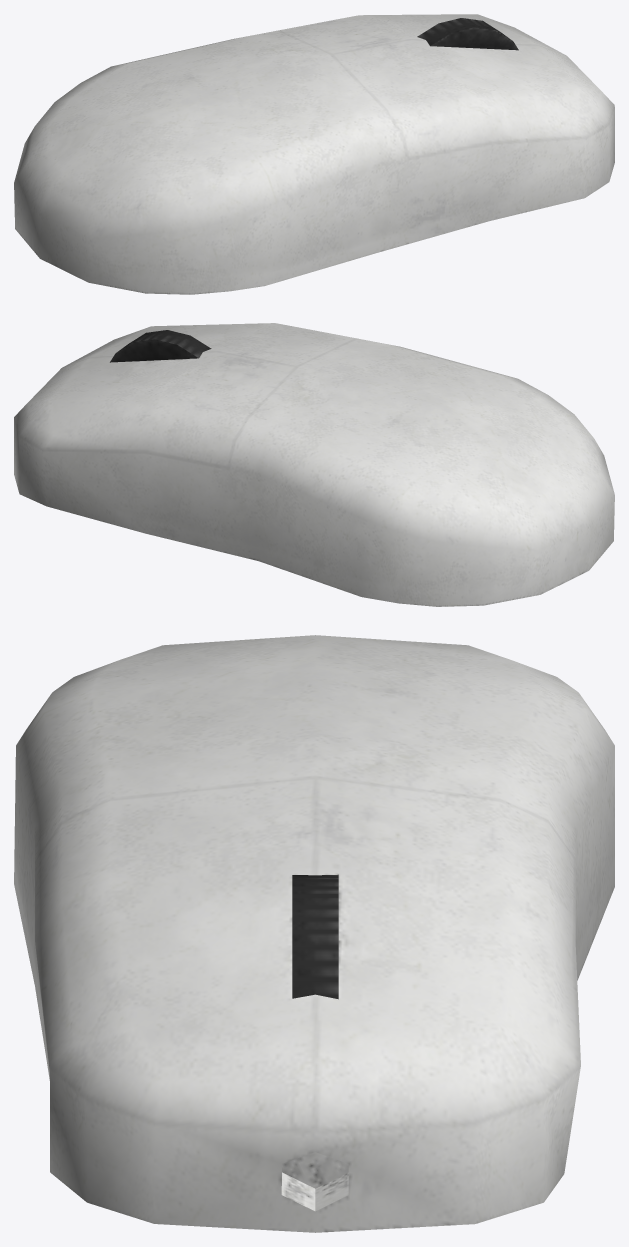
File: SM_Mouse_01.fbx
3 views of the same model, one above another, from view 1: azimuth 30°, elevation 25°; view 2: azimuth 150°, elevation 25°; view 3: azimuth 270°, elevation 25° (orthographic). The views are drawn at different scales.
Parts seen in each view (by area): view 1: SM_Mouse_01_LOD0; view 2: SM_Mouse_01_LOD0; view 3: SM_Mouse_01_LOD0.
Part boxes in pixels (x1,y1,x2,y2): SM_Mouse_01_LOD0: [14, 14, 614, 294]; SM_Mouse_01_LOD0: [14, 323, 614, 606]; SM_Mouse_01_LOD0: [14, 635, 614, 1232].
Bounding box in the file's own units: 10.35 × 5.57 × 2.77.
